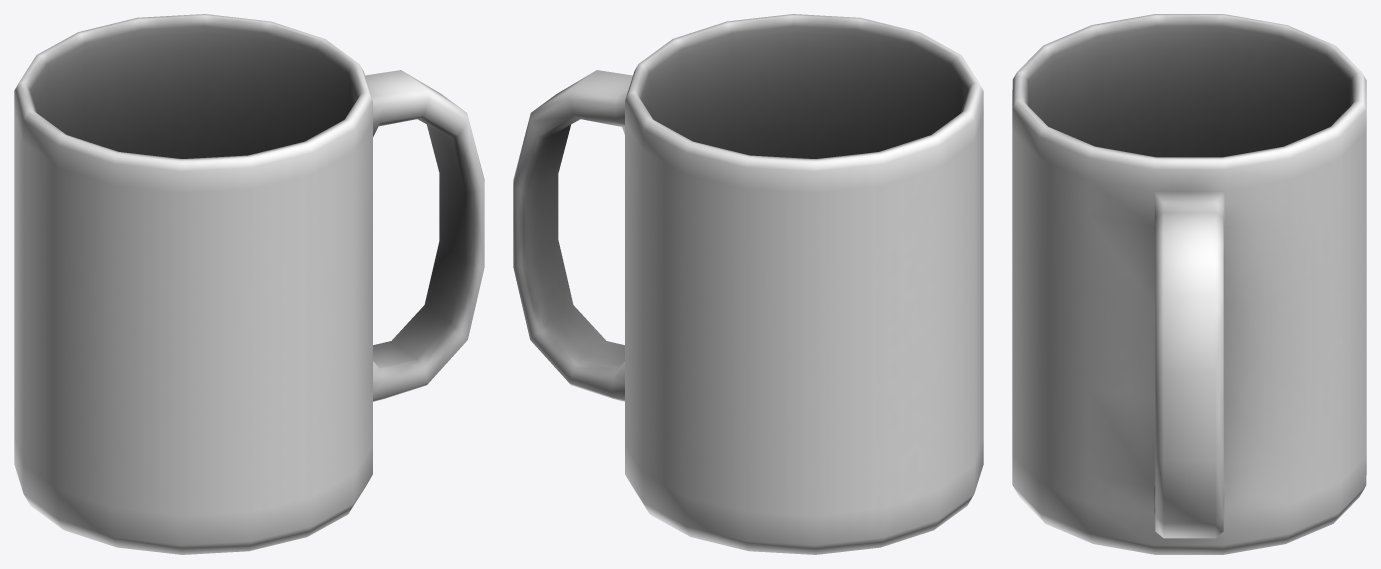
Rendered from MugCup.fbx.
3 views of the same model, side by side, from view 1: azimuth 30°, elevation 25°; view 2: azimuth 150°, elevation 25°; view 3: azimuth 270°, elevation 25° (orthographic).
Visible parts, largest first — view 1: MugCup; view 2: MugCup; view 3: MugCup.
Part boxes in pixels (x1,y1,x2,y2): MugCup: [14, 14, 484, 554]; MugCup: [513, 14, 983, 554]; MugCup: [1012, 14, 1366, 554].
Size of the model in its own units: 1.11 by 0.9689 by 0.7847.
